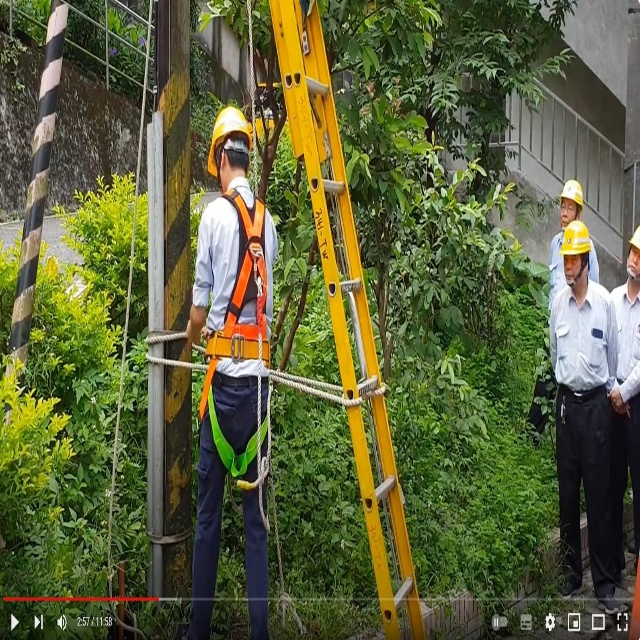Arnes_seguridad: (200, 187, 272, 483)
